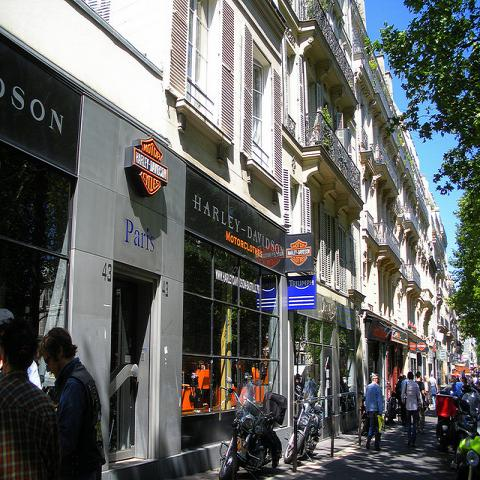motorcycle: (219, 378, 283, 479), (284, 391, 325, 460), (450, 410, 479, 479), (384, 396, 397, 424)
